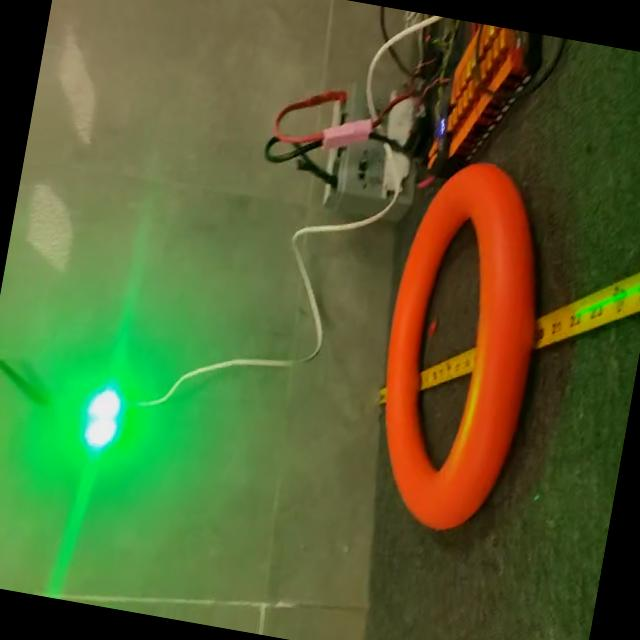note: (355, 148, 565, 546)
